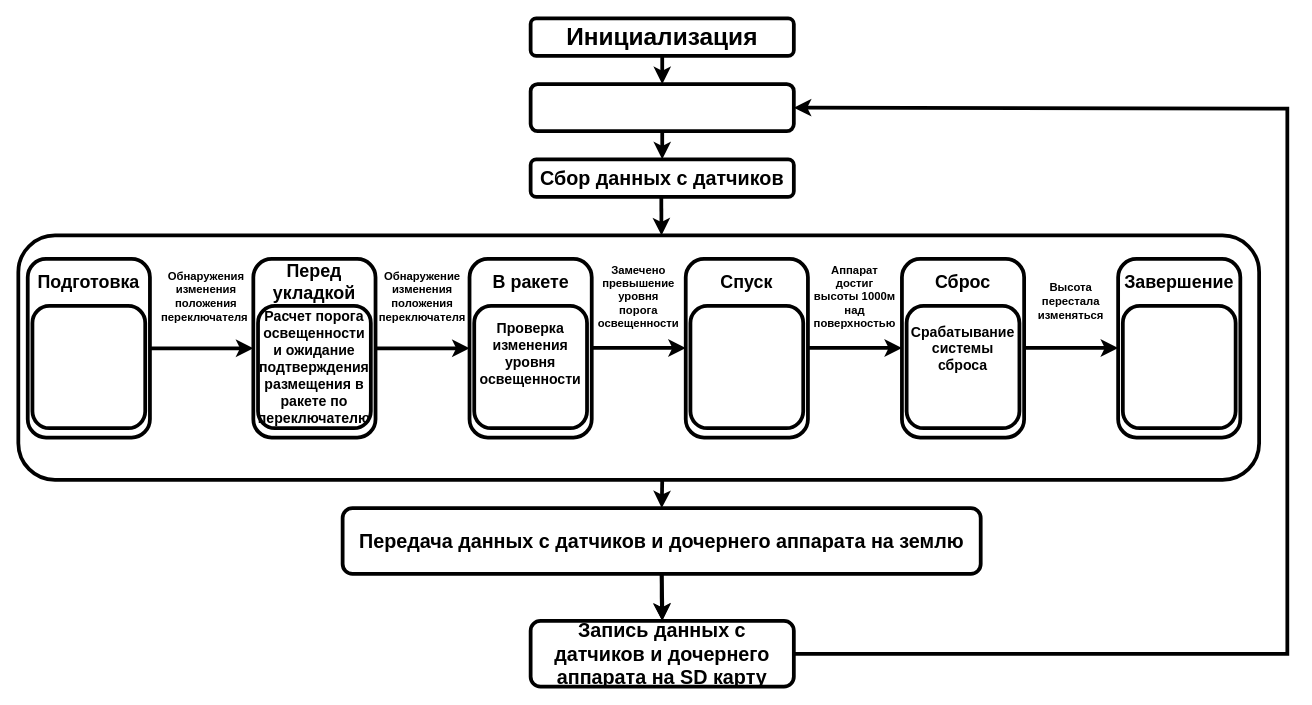
This 1312x705 diagram has some shape labels left out. Each missing label, with the centre of its shape:
Включение пьезодинамика: point 1178,367
Ожидание достижения высоты 1000м: point 746,367
Определние системы координат и ожидание замера освещенности по переключателю: point 88,367
Сбор данных с дочернего аппарата: point 661,107
